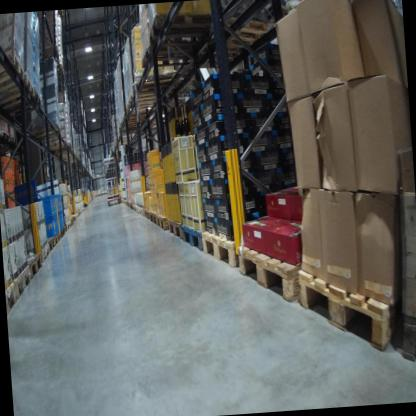pallet: (295, 256, 401, 355), (238, 224, 343, 303), (138, 28, 217, 70), (144, 6, 216, 52), (212, 4, 277, 47), (202, 225, 241, 272), (0, 73, 37, 112), (0, 51, 28, 99), (393, 311, 416, 366), (2, 93, 44, 121), (212, 31, 252, 57), (131, 73, 173, 94), (12, 264, 34, 303), (181, 219, 204, 256), (28, 124, 62, 143), (129, 91, 167, 107), (26, 252, 45, 281), (5, 282, 20, 318), (167, 217, 185, 242), (124, 101, 161, 113), (36, 45, 61, 61), (155, 212, 172, 231), (47, 141, 71, 154), (44, 234, 57, 253), (3, 128, 13, 147), (145, 205, 155, 222), (40, 245, 50, 261), (59, 228, 67, 243), (56, 65, 66, 77), (150, 210, 157, 227), (54, 233, 62, 246), (55, 11, 65, 20), (11, 133, 19, 144), (0, 122, 4, 139), (63, 224, 69, 235), (66, 222, 72, 230), (70, 218, 75, 226)
